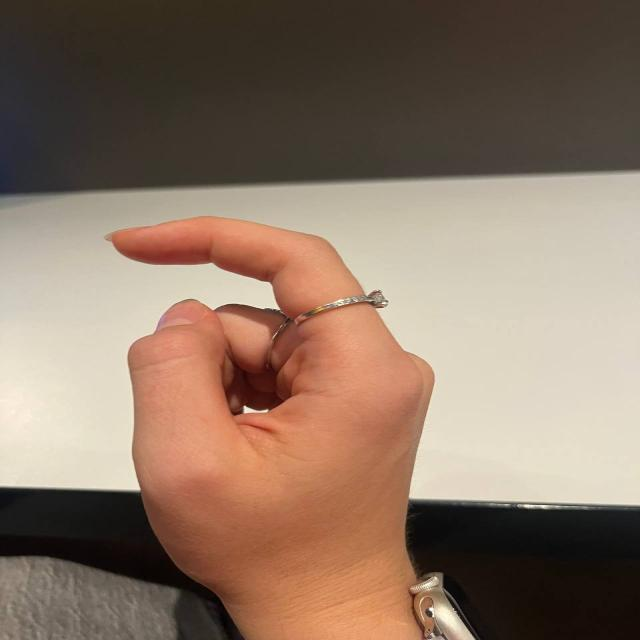kh: (60, 195, 456, 537)
